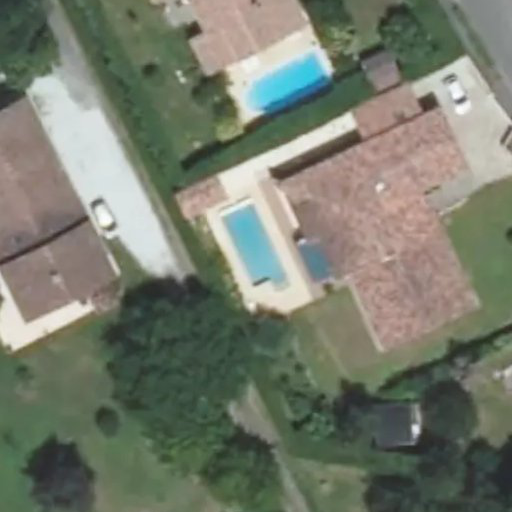pool: (219, 209, 292, 282)
